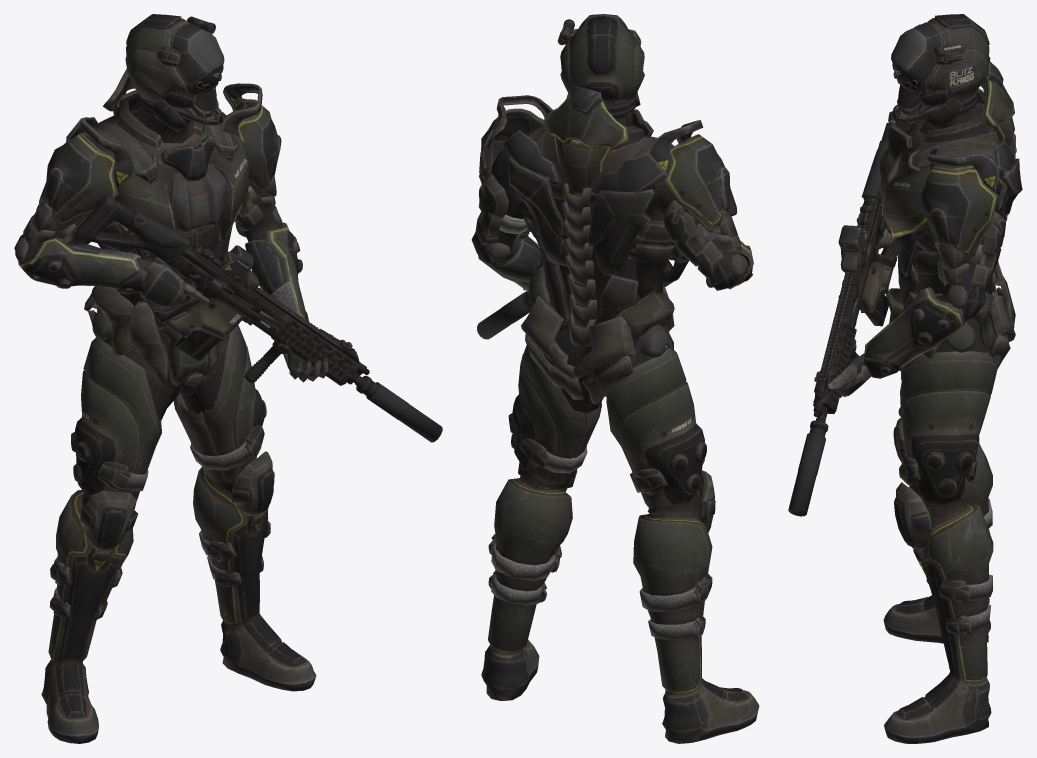
File: scifi-soldier-polly-v1.glb
3 views of the same model, side by side, from view 1: azimuth 30°, elevation 25°; view 2: azimuth 150°, elevation 25°; view 3: azimuth 270°, elevation 25° (orthographic). The views are drawn at different scales.
Parts seen in each view (by area): view 1: Object_4, Object_6, Object_5; view 2: Object_4, Object_5, Object_6; view 3: Object_4, Object_6, Object_5.
Part boxes in pixels (x1=…): Object_4: x1=14, y1=14, x2=352, y2=743; Object_6: x1=74, y1=194, x2=442, y2=442; Object_5: x1=20, y1=109, x2=351, y2=420; Object_4: x1=471, y1=14, x2=759, y2=743; Object_5: x1=491, y1=100, x2=740, y2=413; Object_6: x1=477, y1=188, x2=737, y2=339; Object_4: x1=828, y1=14, x2=1022, y2=743; Object_6: x1=788, y1=111, x2=896, y2=516; Object_5: x1=819, y1=105, x2=1001, y2=395.
Bounding box in the file's own units: 5.33 × 10 × 3.18.
3 materials, 3 textured.
